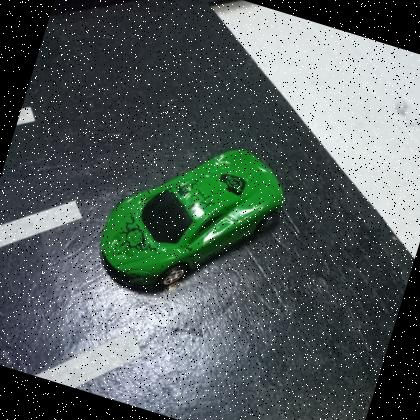Car: (99, 151, 284, 295)
